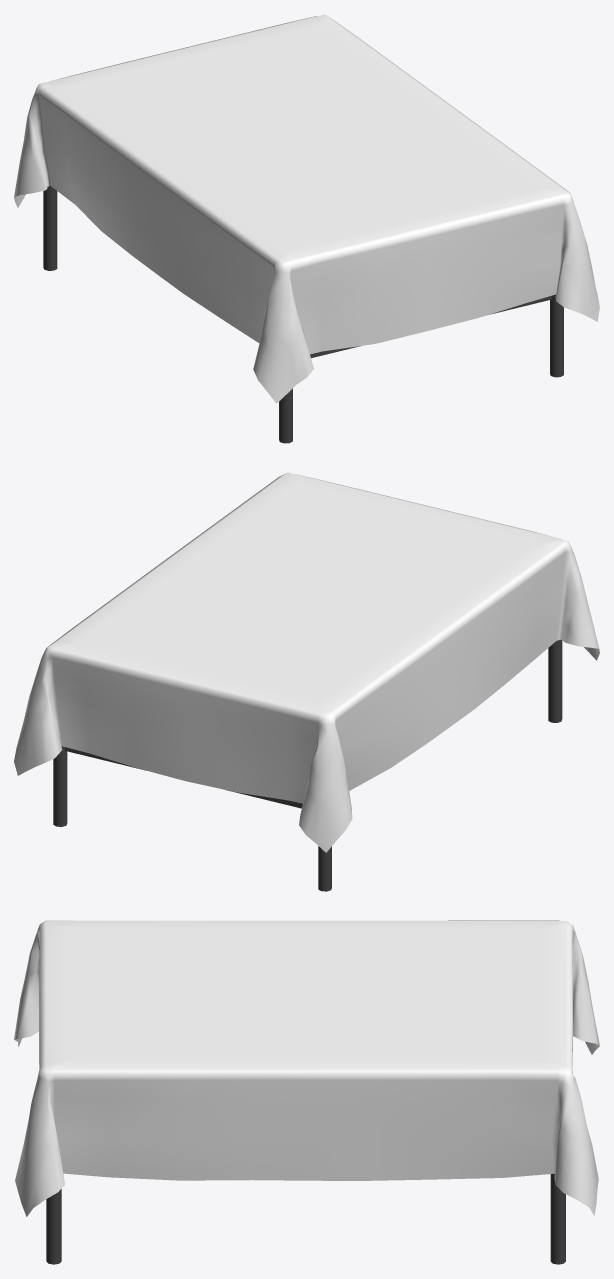
The model's file is pi_tabel01_05_02.gltf.
The picture shows the model from 3 angles, top to bottom: view 1: azimuth 30°, elevation 25°; view 2: azimuth 150°, elevation 25°; view 3: azimuth 270°, elevation 25°; orthographic projection. The views are drawn at different scales.
Visible parts, largest first — view 1: nomerge_pi_tabel01_cloth01_01_016_mesh_shape:pi_tabel01_clot, pi_tabel01_05_02; view 2: nomerge_pi_tabel01_cloth01_01_016_mesh_shape:pi_tabel01_clot, pi_tabel01_05_02; view 3: nomerge_pi_tabel01_cloth01_01_016_mesh_shape:pi_tabel01_clot, pi_tabel01_05_02.
Part boxes in pixels (x1,y1,x2,y2): nomerge_pi_tabel01_cloth01_01_016_mesh_shape:pi_tabel01_clot: (14,14,599,403); pi_tabel01_05_02: (43,185,563,443); nomerge_pi_tabel01_cloth01_01_016_mesh_shape:pi_tabel01_clot: (14,472,599,852); pi_tabel01_05_02: (53,639,562,891); nomerge_pi_tabel01_cloth01_01_016_mesh_shape:pi_tabel01_clot: (14,920,599,1216); pi_tabel01_05_02: (46,1173,565,1264).
Size of what is drawn, in the model's own units: 1.5 by 0.76 by 2.06.
2 materials, 1 textured.
